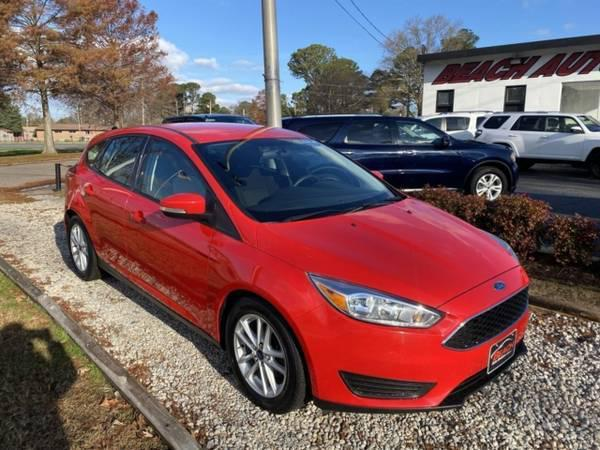Front_Bumper: (288, 262, 529, 407)
Front_Fender: (204, 206, 330, 350)
Front_Right_Door: (122, 194, 213, 338)
Front_Right_Window: (136, 137, 225, 236)
Front_Windshield: (194, 139, 406, 224)
Grille: (441, 280, 528, 345)
Hood: (259, 197, 519, 309)
Rear_Fender: (64, 138, 113, 215)
Rear_Right_Door: (78, 171, 132, 288)
Rear_Right_Window: (96, 135, 153, 196)
Right_Headlight: (314, 273, 445, 327)
Roof: (79, 123, 313, 227)
Wheel: (225, 297, 304, 409), (67, 220, 92, 278)
